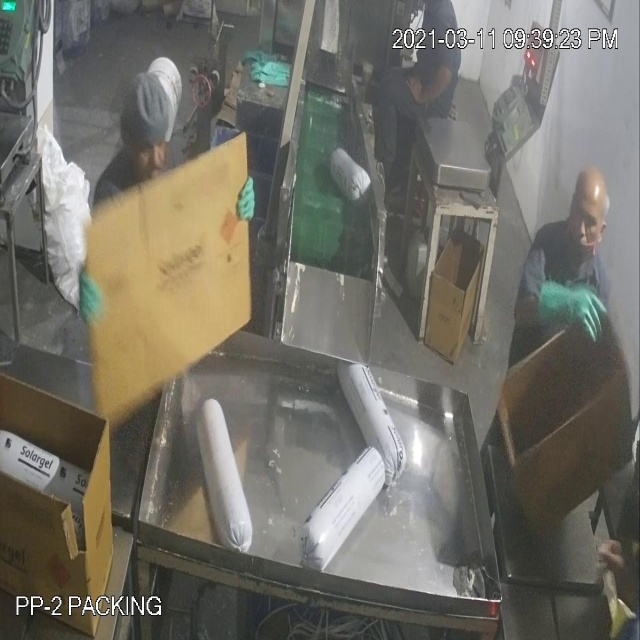Guantes: (531, 268, 614, 350)
Sin_guantes: (401, 63, 464, 108)
